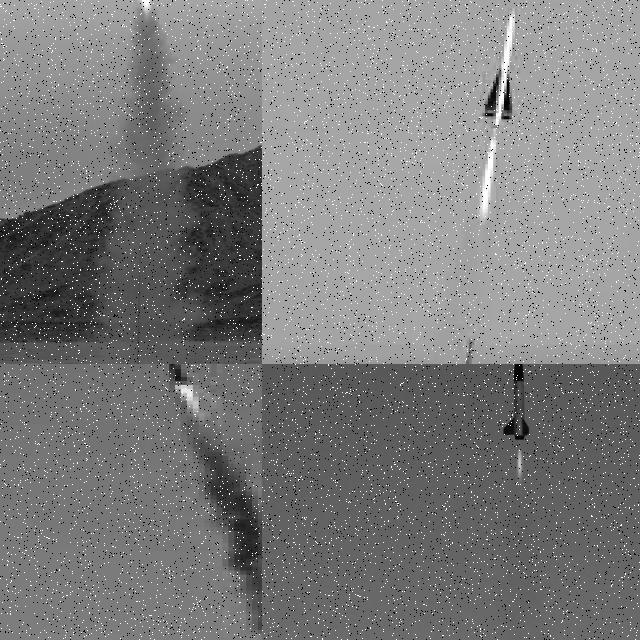Rocket: (481, 7, 523, 125), (502, 364, 530, 441)
